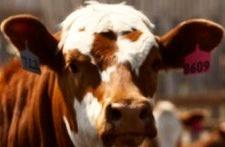muzzles: (98, 100, 161, 146)
